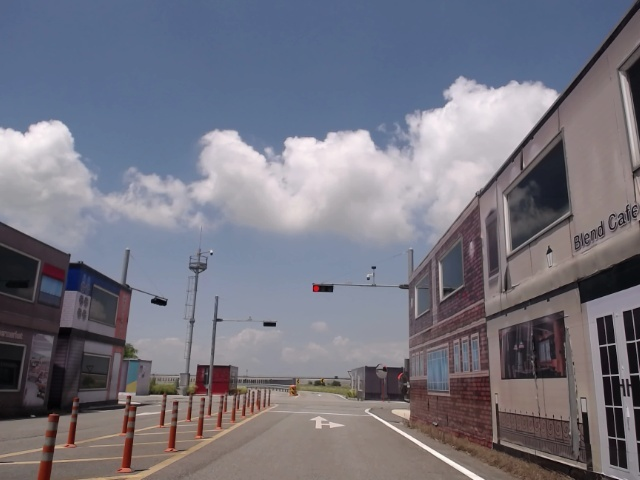red_3: (313, 284, 335, 292)
